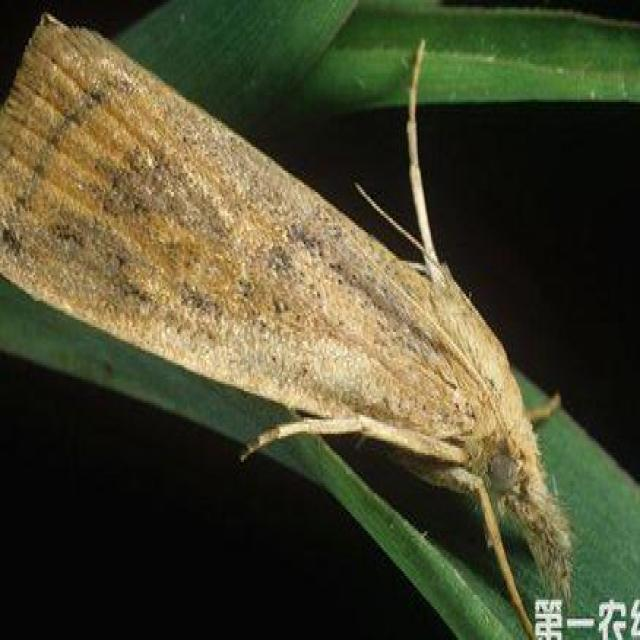yellow-stem-borer: (5, 10, 610, 640)
